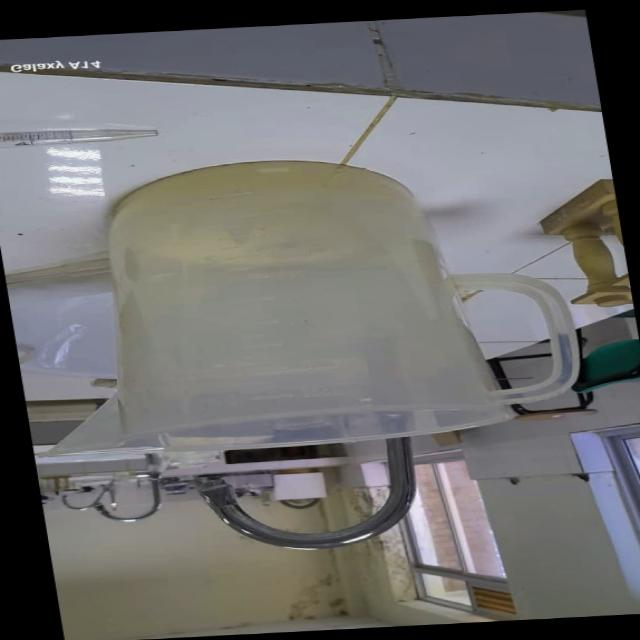Beakers: (0, 147, 612, 462)
